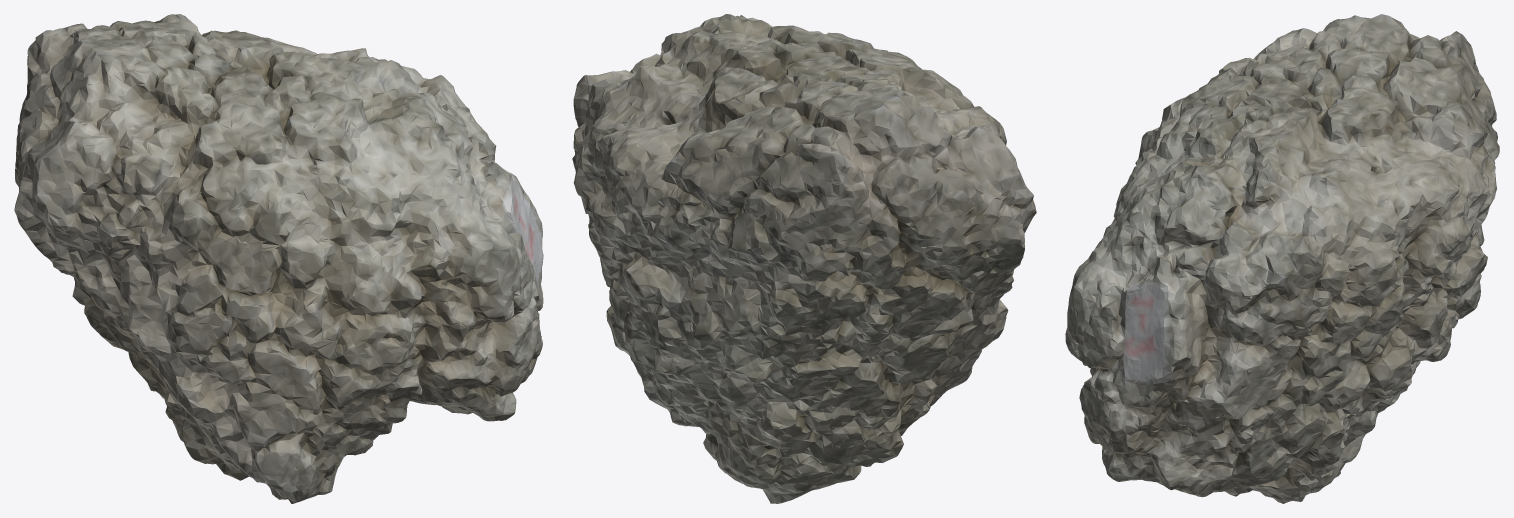
File: arius-relic-head.glb
The picture shows the model from 3 angles, left to right: view 1: azimuth 30°, elevation 25°; view 2: azimuth 150°, elevation 25°; view 3: azimuth 270°, elevation 25°; orthographic projection. The views are drawn at different scales.
Parts seen in each view (by area): view 1: geometry_0; view 2: geometry_0; view 3: geometry_0.
Boxes of the visible parts, <box> form: geometry_0: <box>14,14,543,503</box>; geometry_0: <box>572,14,1036,503</box>; geometry_0: <box>1065,14,1499,503</box>.
Size of the model in its own units: 0.7011 by 0.6493 by 0.6069.
